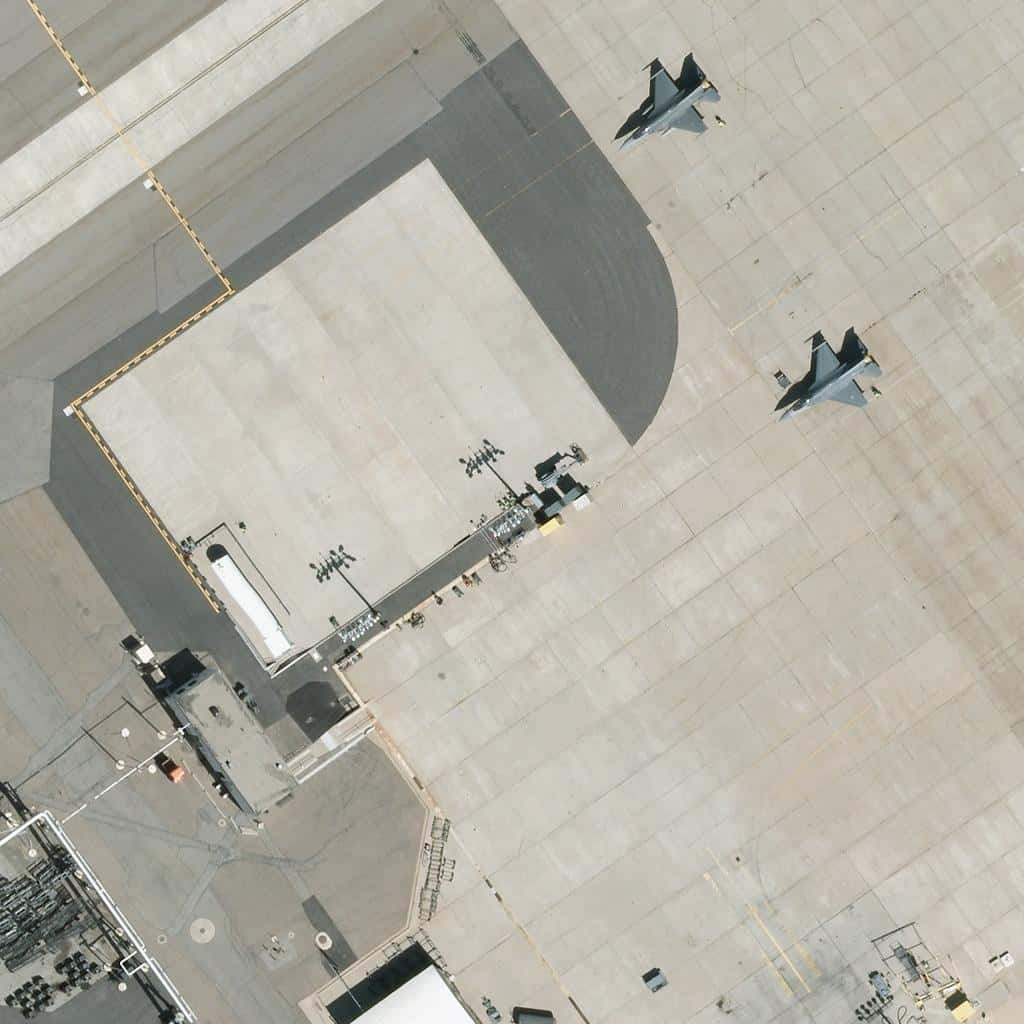plane: (775, 330, 886, 430), (613, 59, 724, 159)
